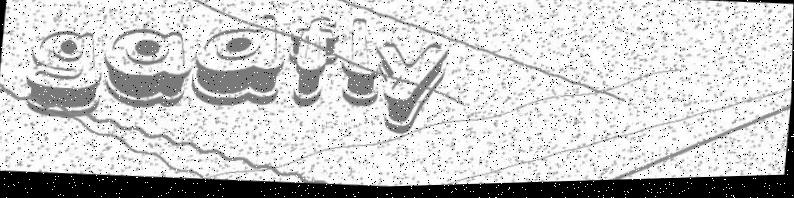a: (101, 25, 193, 112)
d: (191, 12, 289, 112)
f: (285, 17, 341, 111)
g: (25, 28, 105, 120)
l: (339, 20, 384, 110)
y: (369, 42, 447, 140)
